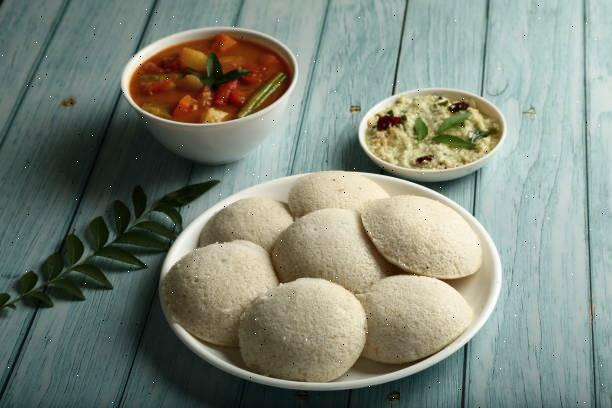coconut chutney: (367, 93, 491, 167)
idli: (184, 179, 475, 366)
sambhar: (140, 29, 287, 124)
